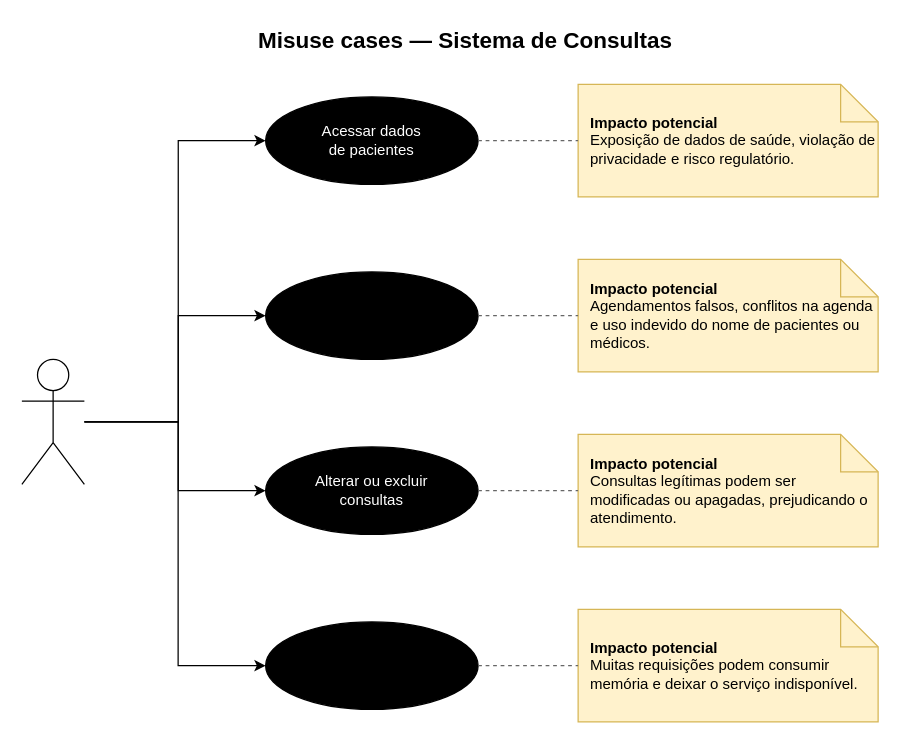
Image size: 900x744. Some labels were removed from this diagram. Here are the shapes that lost their labels. From the top down, the centre of each, then its label:
At [371,315]: "Criar consulta falsa".
At [52,421]: "Atacante".
At [371,665]: "Indisponibilizar a API".
